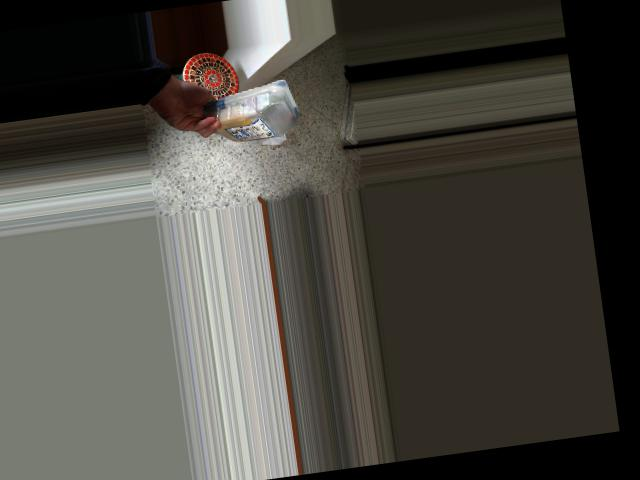cheese: (204, 82, 304, 146)
